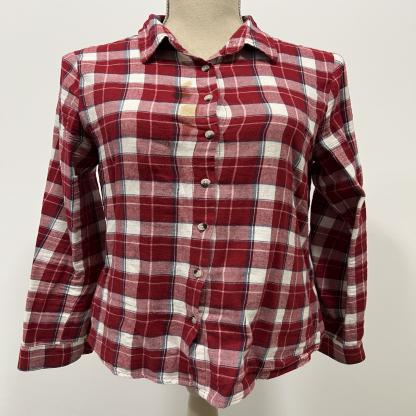stain: (176, 102, 204, 142), (170, 79, 196, 101)
